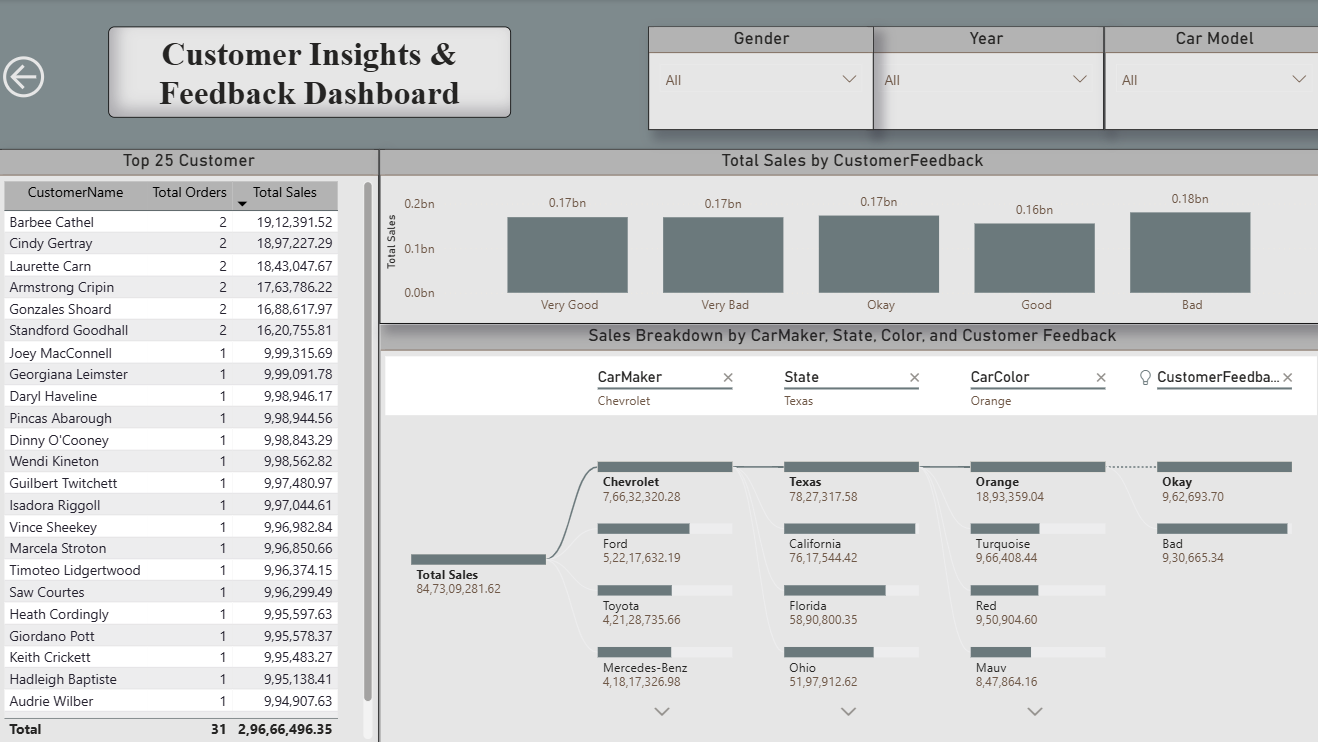

The page's visual inventory and layout, read from the dashboard file:
{"tool":"powerbi","page":{"name":"Customer Insights & Feedback Dashboard","canvas":[1280,720],"ordinal":3},"visuals":[{"type":"tableEx","title":"Top 25 Customer","fields":{"Values":["Customer.CustomerName","Orders.Total Orders","Orders.Total Sales"]},"box":[0,145,368.8,575],"z":0},{"type":"decompositionTreeVisual","title":"Sales Breakdown by CarMaker, State, Color, and Customer Feedback","fields":{"Analyze":["Orders.Total Sales"],"ExplainBy":["product.CarMaker","Customer.State","product.CarColor","CustomerFeedback.CustomerFeedback"]},"box":[368.8,313.8,911.2,406.2],"z":1000},{"type":"columnChart","fields":{"Category":["CustomerFeedback.CustomerFeedback"],"Y":["Orders.Total Sales"]},"box":[368.8,145,911.2,168.8],"z":2000},{"type":"slicer","title":"Year","fields":{"Values":["Calendar_Table.OrderDate.Variation.Date Hierarchy.Year"]},"box":[840,26.2,228.8,100],"z":3000},{"type":"slicer","title":"Car Model","fields":{"Values":["product.CarModel"]},"box":[1068.8,26.2,211.2,100],"z":4000},{"type":"slicer","title":"Gender","fields":{"Values":["Customer.Gender"]},"box":[628.8,26.2,217.5,100],"z":5000},{"type":"textbox","box":[107,26.2,388.8,88],"z":6000},{"type":"actionButton","box":[0,48.9,74.6,51.4],"z":7000}]}

Visuals, with their boxes in screenshot pixels (x1, y1, x2, y2), scaled from the page's 1280x720 canvas onto the 1318x742 screenshot:
"Top 25 Customer" tableEx: pyautogui.locateOnScreen(0, 149, 380, 741)
"Sales Breakdown by CarMaker, State, Color, and Customer Feedback" decompositionTreeVisual: pyautogui.locateOnScreen(380, 323, 1317, 741)
columnChart - CustomerFeedback.CustomerFeedback x Orders.Total Sales: pyautogui.locateOnScreen(380, 149, 1317, 323)
"Year" slicer: pyautogui.locateOnScreen(865, 27, 1101, 130)
"Car Model" slicer: pyautogui.locateOnScreen(1101, 27, 1317, 130)
"Gender" slicer: pyautogui.locateOnScreen(647, 27, 871, 130)
textbox: pyautogui.locateOnScreen(110, 27, 511, 118)
actionButton: pyautogui.locateOnScreen(0, 50, 77, 103)
